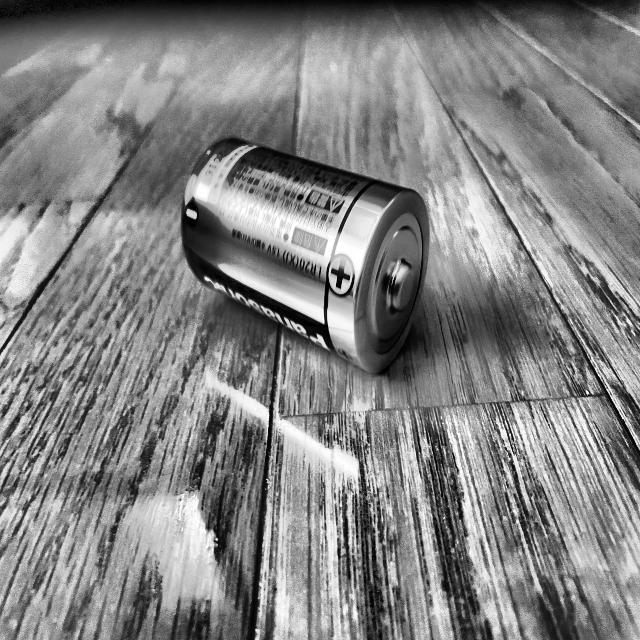drycell: (175, 128, 432, 374)
